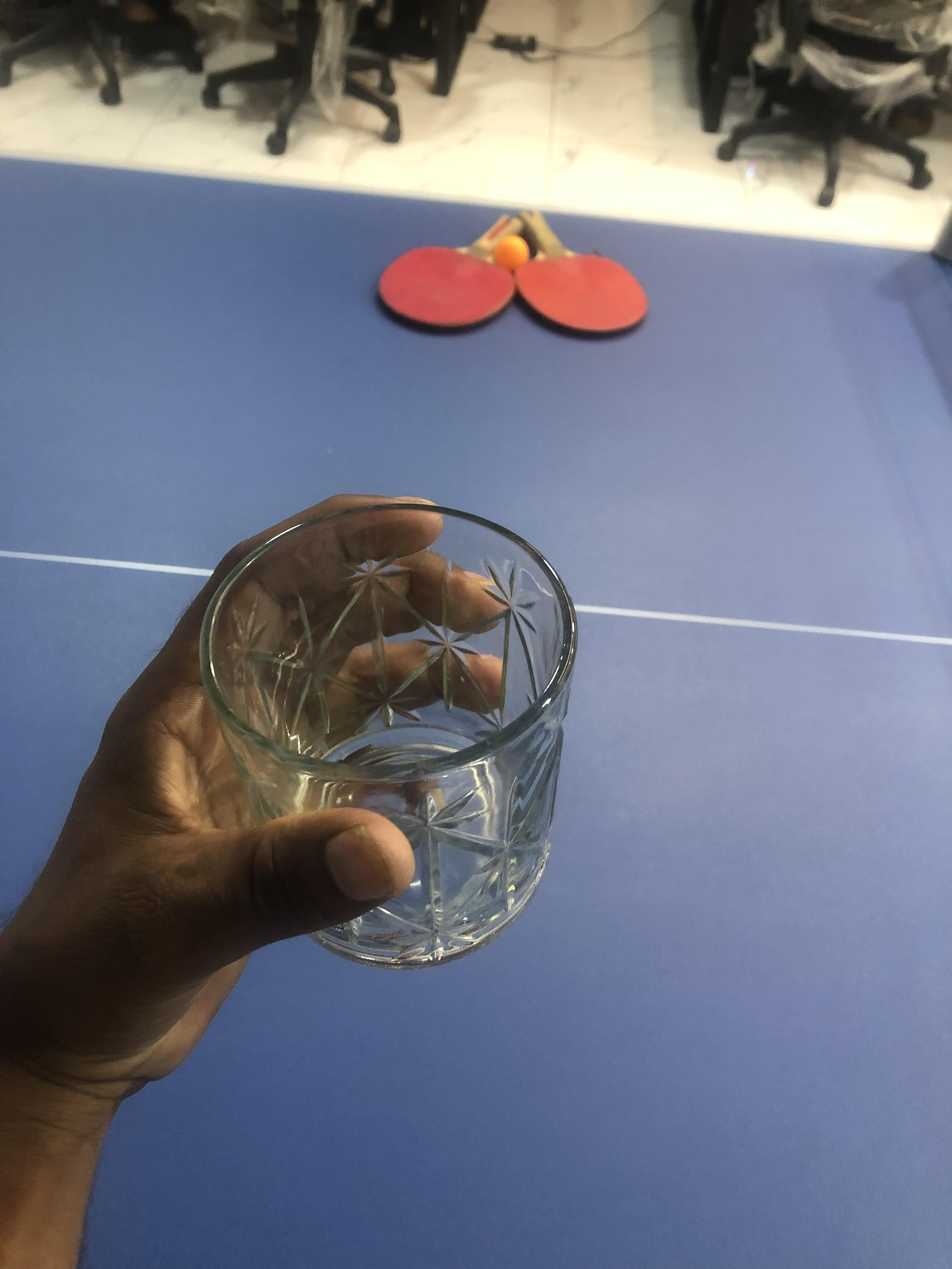glass-normal: (187, 480, 593, 992)
